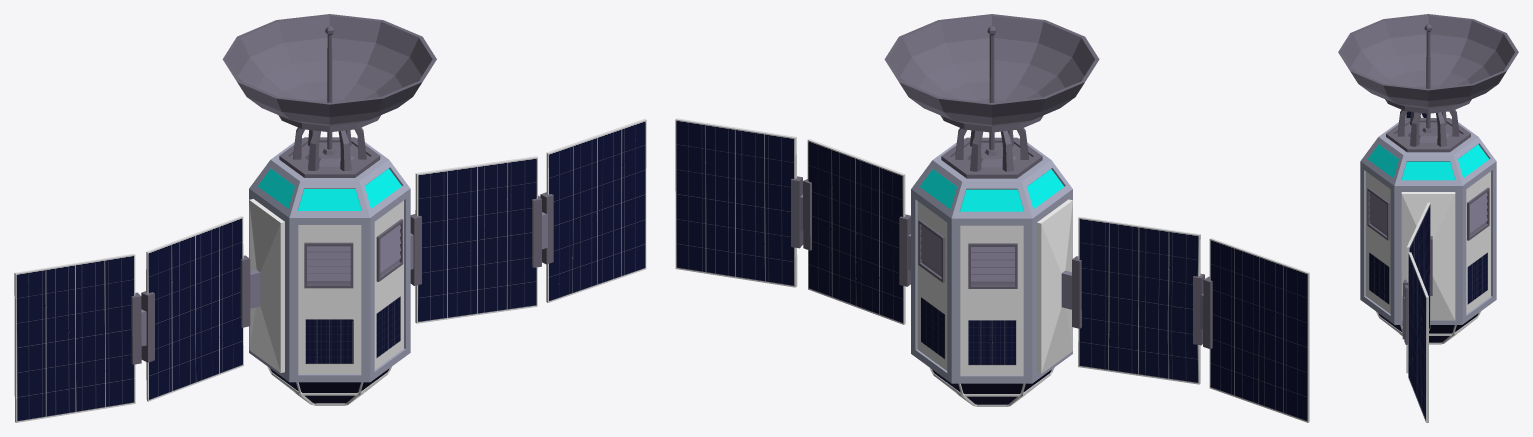
Rendered from радар 3.fbx.
3 renders of one model, left to right at view 1: azimuth 30°, elevation 25°; view 2: azimuth 150°, elevation 25°; view 3: azimuth 270°, elevation 25°, orthographic. The views are drawn at different scales.
Parts seen in each view (by area): view 1: радар2; view 2: радар2; view 3: радар2.
Boxes of the visible parts, box(x1,y1,x2,y2) form: радар2: box(14, 14, 646, 422); радар2: box(675, 14, 1309, 422); радар2: box(1338, 14, 1518, 422).
Bounding box in the file's own units: 1378 × 778 × 406.
